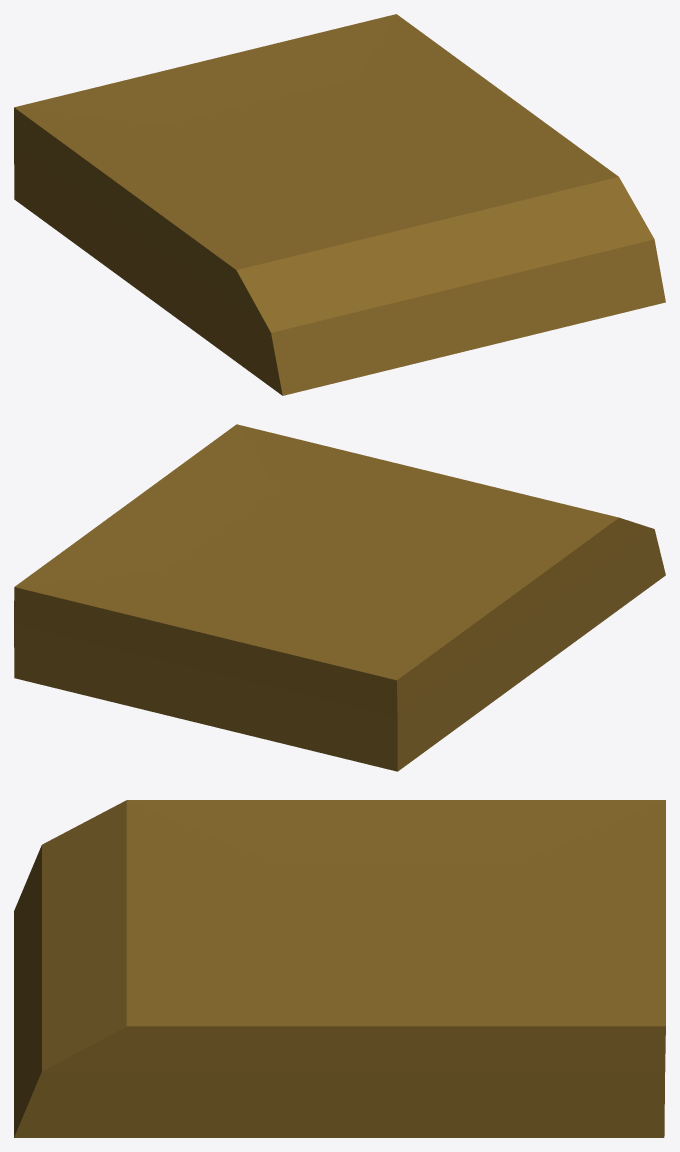
Rendered from uncultivated_bed2.fbx.
The picture shows the model from 3 angles, top to bottom: view 1: azimuth 30°, elevation 25°; view 2: azimuth 150°, elevation 25°; view 3: azimuth 270°, elevation 25°; orthographic projection. The views are drawn at different scales.
Visible parts, largest first — view 1: Куб.002; view 2: Куб.002; view 3: Куб.002.
Boxes of the visible parts, x1=… form: Куб.002: x1=14, y1=14, x2=665, y2=395; Куб.002: x1=14, y1=424, x2=665, y2=771; Куб.002: x1=14, y1=800, x2=665, y2=1137.
Bounding box in the file's own units: 70 × 16 × 85.
